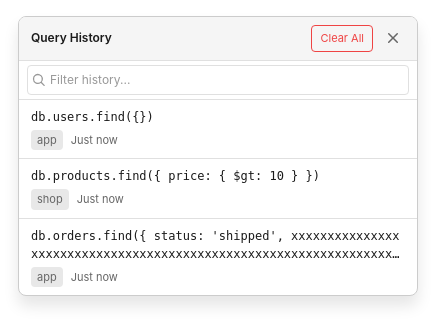
Test: QueryHistory › filter › clears the filter with the clear button
The image size is (437, 325).
Step 1. Type "users" into the field labelled "Filter history" → (227, 80), box 50,66 -> 404,94
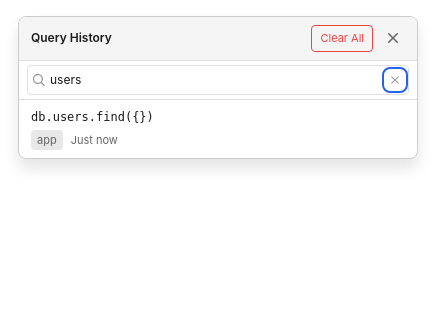
Step 2. Click the button named "Clear filter" → (395, 80), box 386,70 -> 404,88
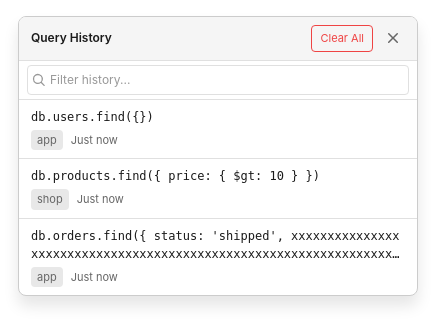
Expected: the field labelled "Filter history" is empty, 50,66 -> 404,94
